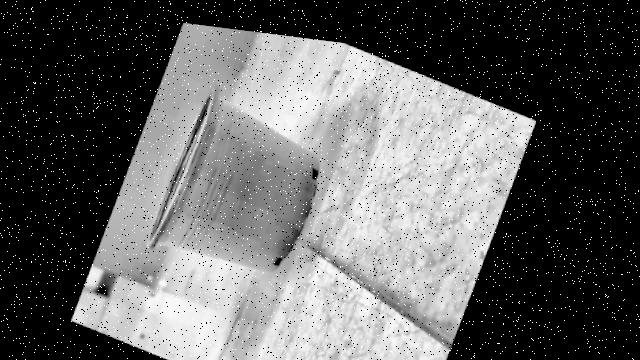pot: (146, 86, 317, 270)
